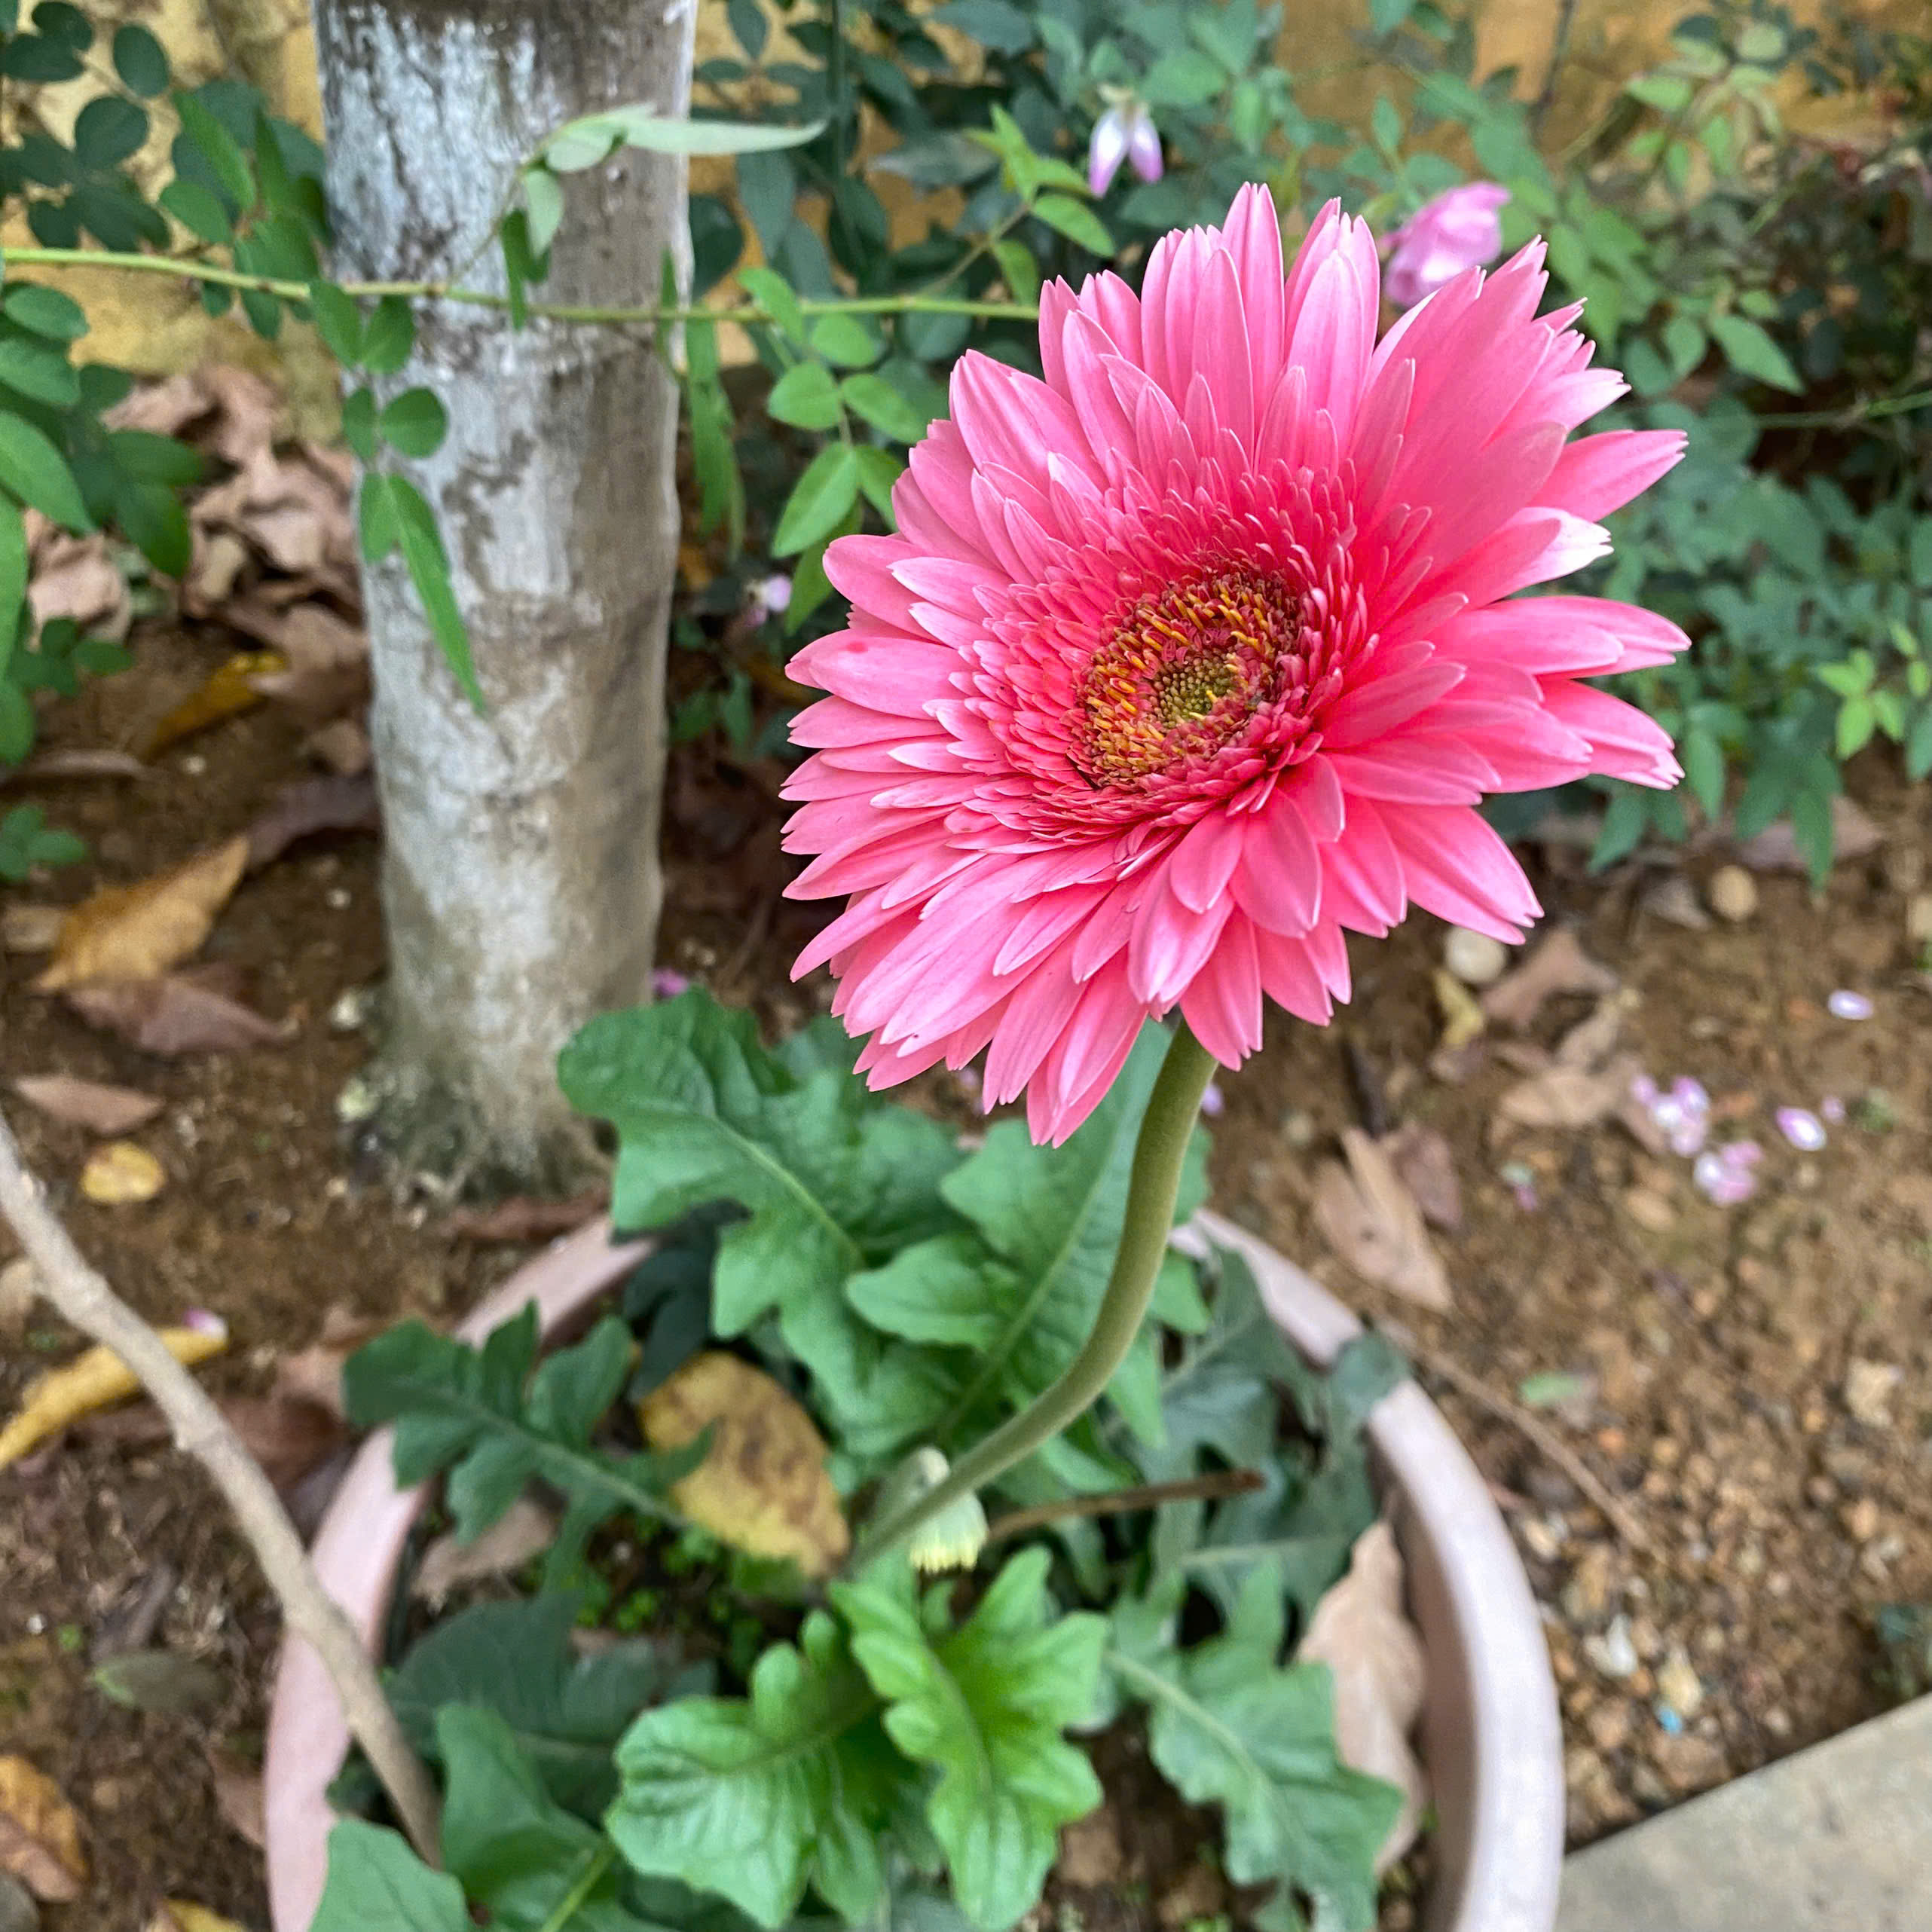hoa_huong_duong: (478, 143, 1888, 1884)
